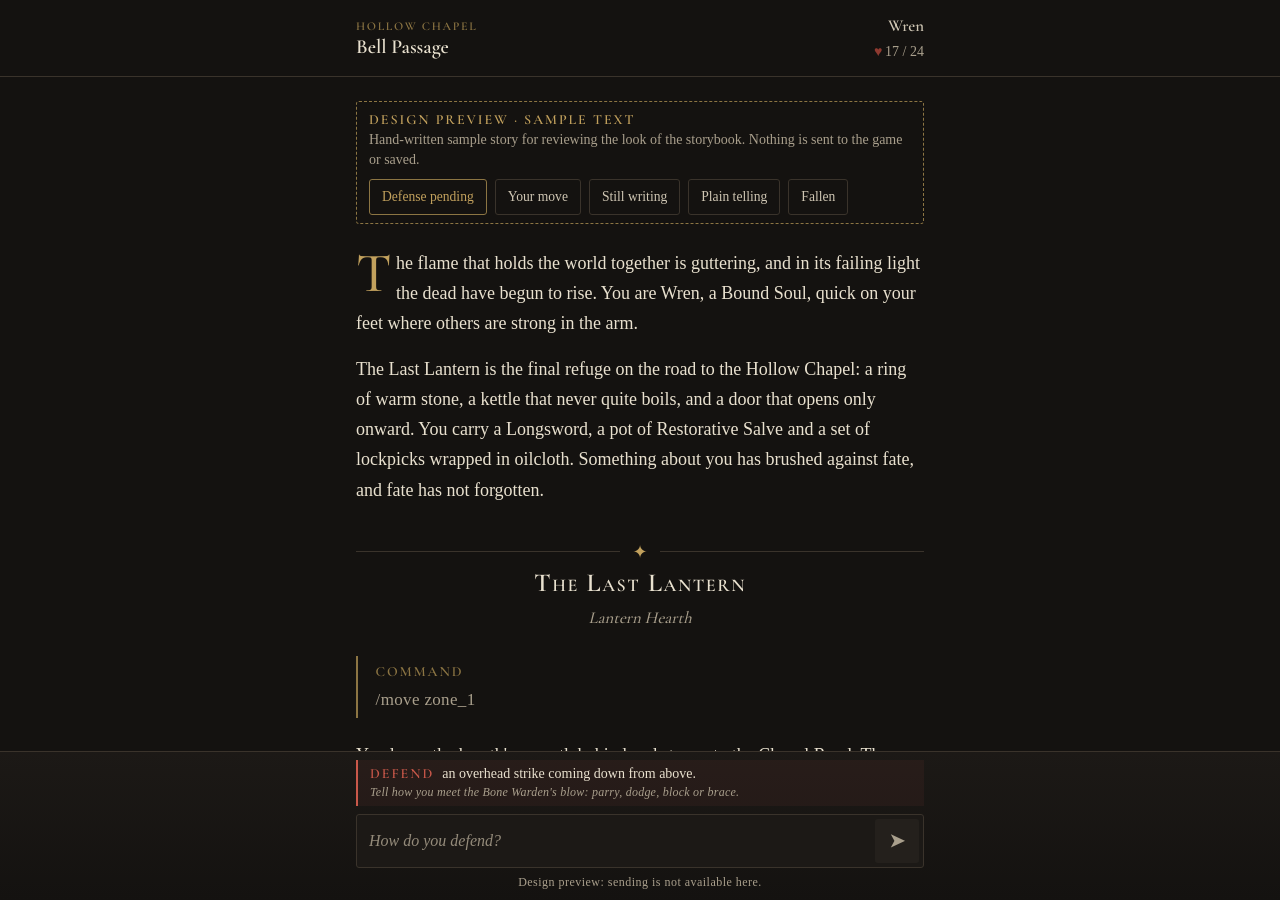
Test: the design preview › is clearly labelled sample data and never touches the network or storage
Expected: the text "Design preview · sample text" is shown, [369, 111, 636, 128]
Expected: the button named "Send action" is disabled, [875, 819, 919, 863]
What coordinates should you click on to do the following:
click the button "Fallen"
I would click on:
 (818, 197)
Its box is [788, 179, 848, 215].
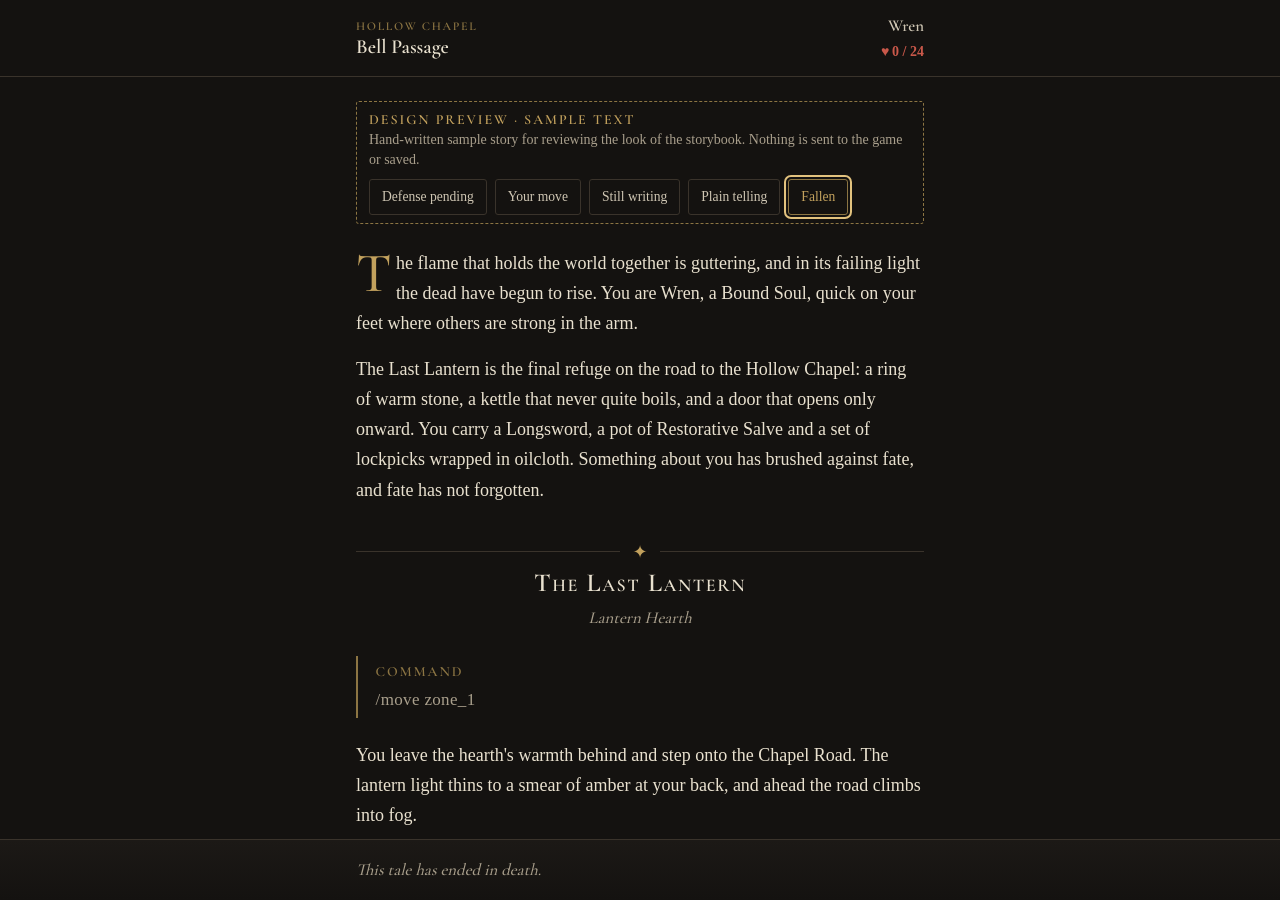
What coordinates should you click on to do the following:
click the button "Plain telling"
I would click on:
 (734, 197)
Its box is [688, 179, 780, 215].
(page scrolled)
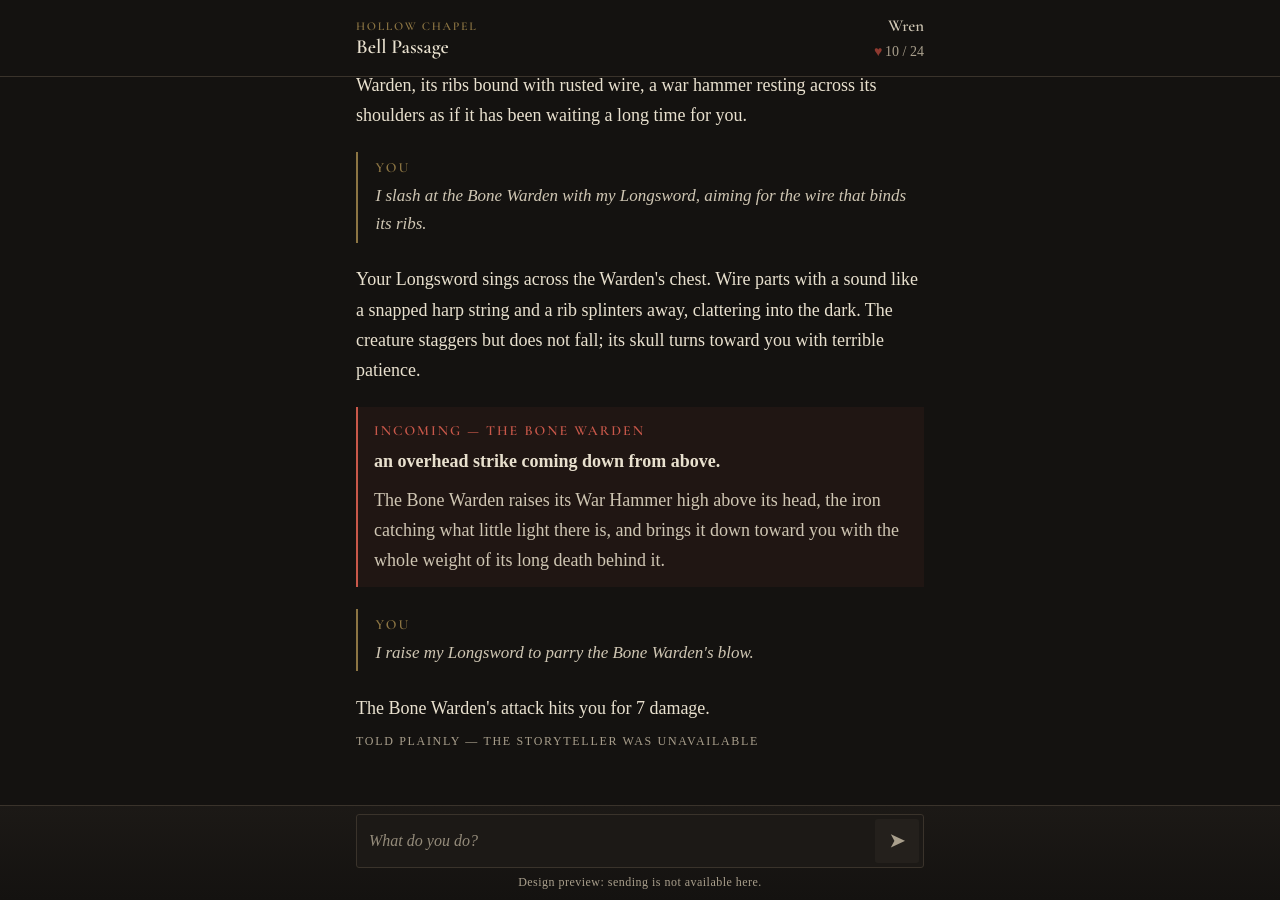
Now the text "Told plainly — the storyteller was unavailable" is shown, box [356, 734, 759, 748]
